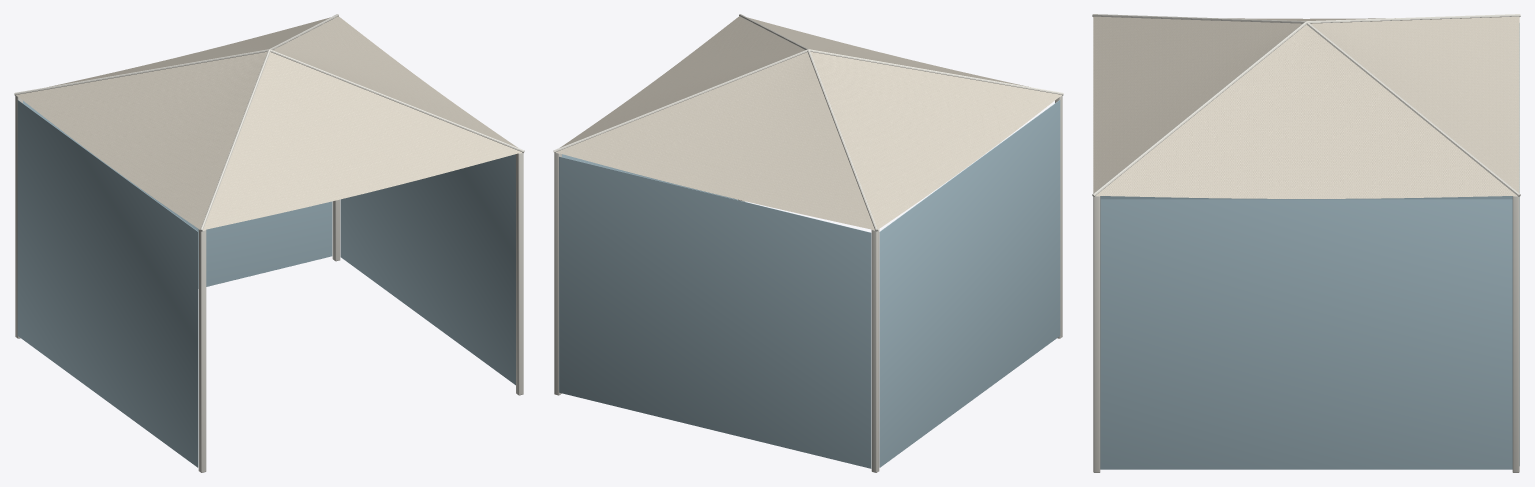
The model's file is carpa_jardin_exterior.glb.
The picture shows the model from 3 angles, left to right: view 1: azimuth 30°, elevation 25°; view 2: azimuth 150°, elevation 25°; view 3: azimuth 270°, elevation 25°; orthographic projection. The views are drawn at different scales.
Parts seen in each view (by area): view 1: carpa_jardin_exterior; view 2: carpa_jardin_exterior; view 3: carpa_jardin_exterior.
Boxes of the visible parts, bbox=[...] form: carpa_jardin_exterior: bbox=[14, 14, 524, 472]; carpa_jardin_exterior: bbox=[553, 14, 1063, 472]; carpa_jardin_exterior: bbox=[1092, 14, 1520, 472].
Bounding box in the file's own units: 3.02 × 2.81 × 3.02.
3 materials, 1 textured.
